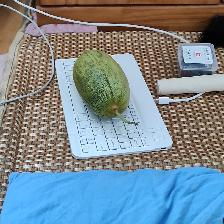gua: (74, 56, 129, 119)
